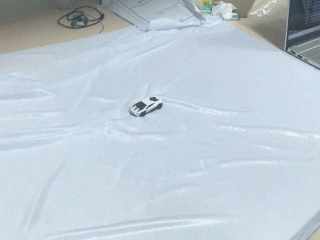toy_car: (129, 96, 162, 117)
